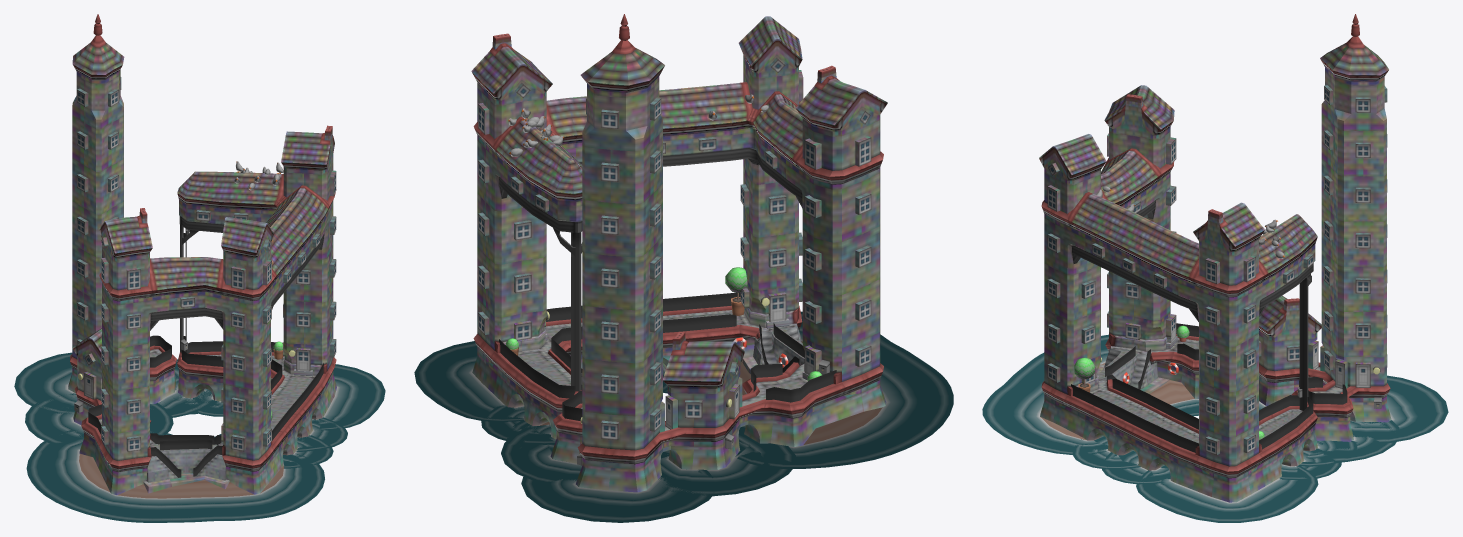
Rendered from town.glb.
The picture shows the model from 3 angles, left to right: view 1: azimuth 30°, elevation 25°; view 2: azimuth 150°, elevation 25°; view 3: azimuth 270°, elevation 25°; orthographic projection. The views are drawn at different scales.
Visible parts, largest first — view 1: town; view 2: town; view 3: town.
Part boxes in pixels (x1=…): town: x1=14, y1=14, x2=385, y2=522; town: x1=414, y1=14, x2=953, y2=522; town: x1=982, y1=14, x2=1448, y2=522.
Size of the model in its own units: 9.06 by 8.77 by 9.34.
1 material, 1 textured.
